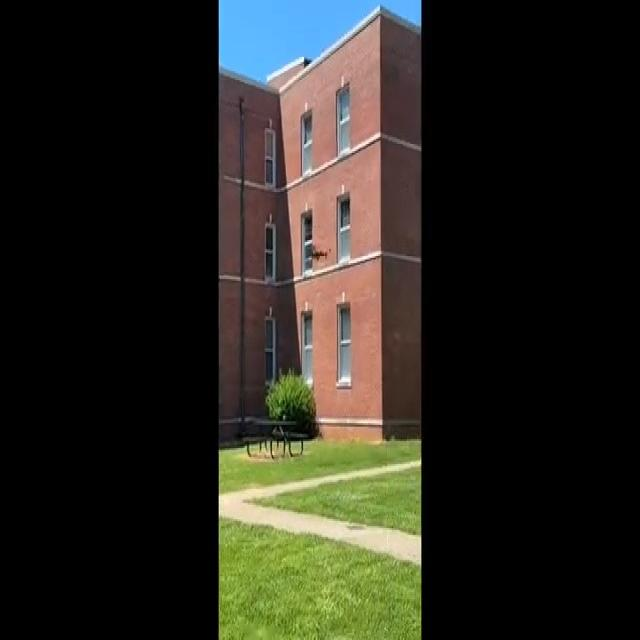drone: (305, 239, 332, 262)
